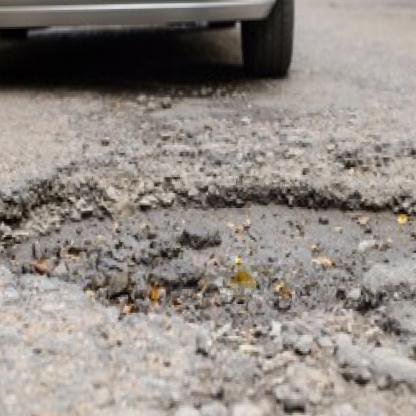pothole: (0, 170, 416, 343)
